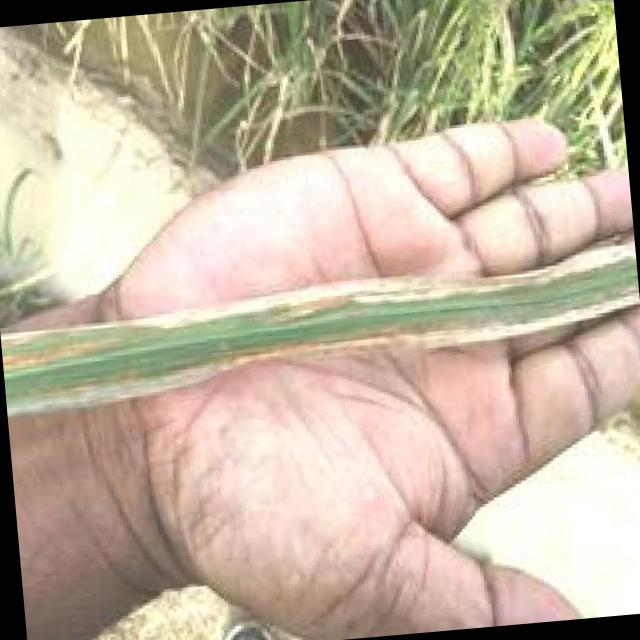Rice_Bacterial_Blight: (11, 242, 624, 372)
